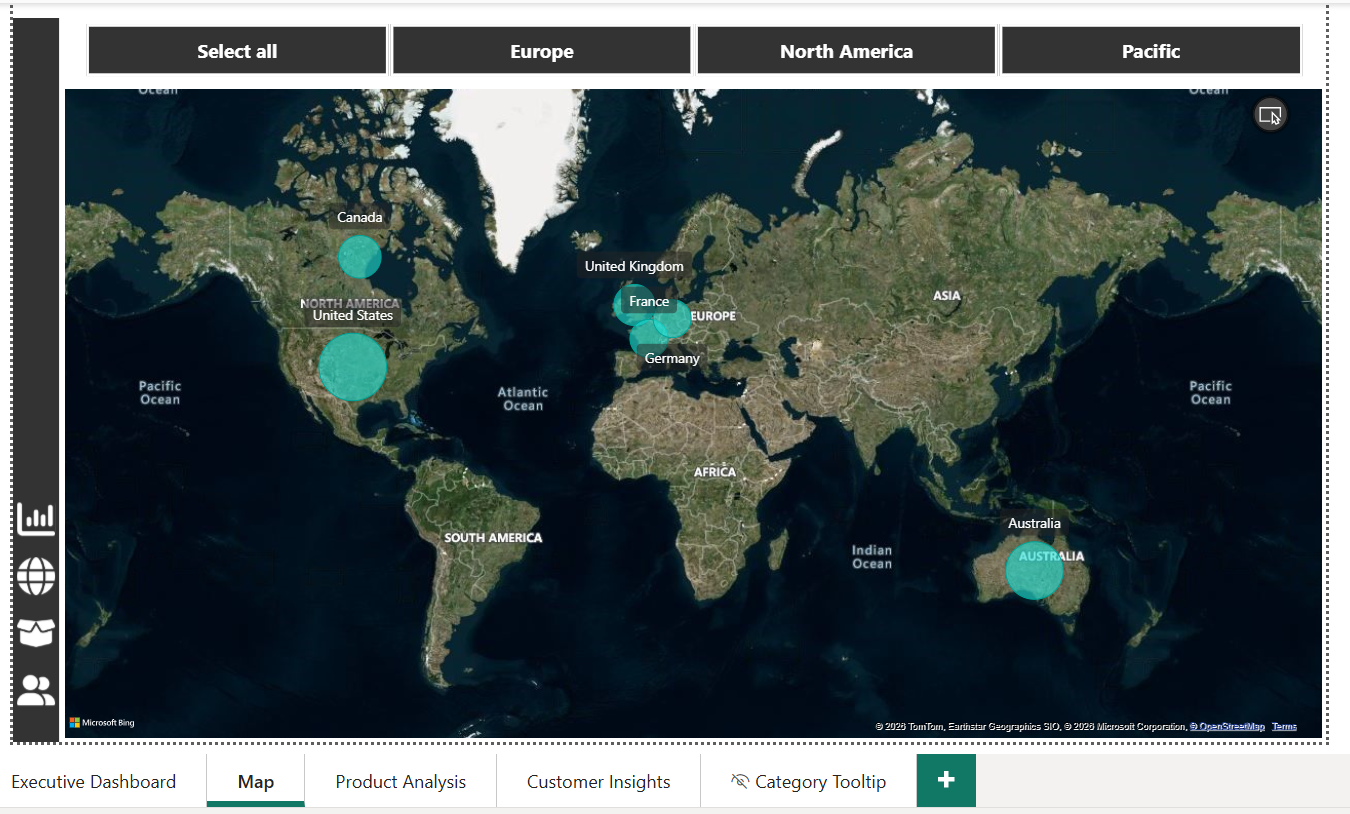

This screenshot's page, from the dashboard's own definition file:
{"tool":"powerbi","page":{"name":"Map","canvas":[1280,720],"ordinal":1},"visuals":[{"type":"shape","box":[0,14,45,706],"z":0},{"type":"actionButton","box":[0,476.7,45,53.3],"z":0,"group":"g1"},{"type":"map","fields":{"Category":["Territory Lookup.Country"],"Size":["Measure Table.Total Orders"]},"box":[45,78.3,1235,641.7],"z":1000},{"type":"actionButton","box":[0,532.3,45,53.3],"z":1000,"group":"g1"},{"type":"slicer","fields":{"Values":["Territory Lookup.Continent"]},"box":[45,13.3,1235,65],"z":2000},{"type":"actionButton","box":[0,587.8,45,53.3],"z":2000,"group":"g1"},{"type":"group","id":"g1","title":"Navigation Buttons","box":[0,476.7,45,220],"z":3000},{"type":"actionButton","box":[0,643.4,45,53.3],"z":3000,"group":"g1"}]}

Visuals, with their boxes in screenshot pixels (x1, y1, x2, y2):
shape: box(11, 25, 56, 733)
actionButton: box(11, 489, 56, 542)
map - Territory Lookup.Country x Measure Table.Total Orders: box(56, 89, 1295, 733)
actionButton: box(11, 545, 56, 598)
slicer - Territory Lookup.Continent: box(56, 24, 1295, 89)
actionButton: box(11, 600, 56, 654)
"Navigation Buttons" group: box(11, 489, 56, 710)
actionButton: box(11, 656, 56, 710)
